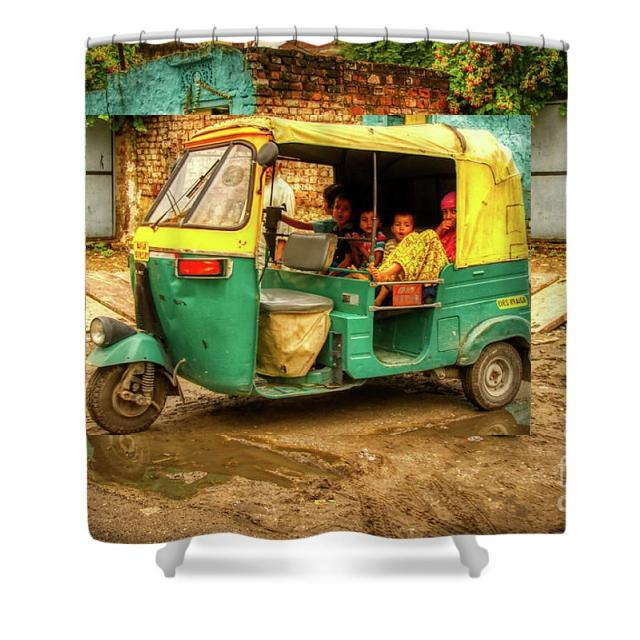autorickshaw: (86, 116, 531, 435)
